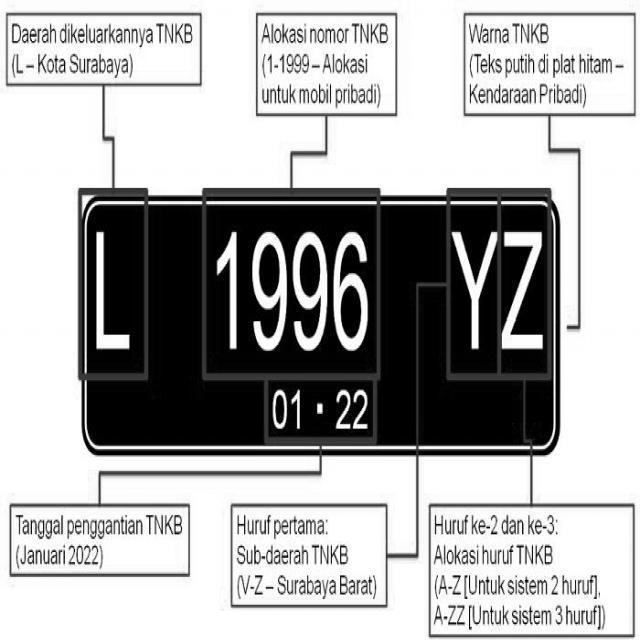clone-license-plate: (80, 206, 547, 452)
